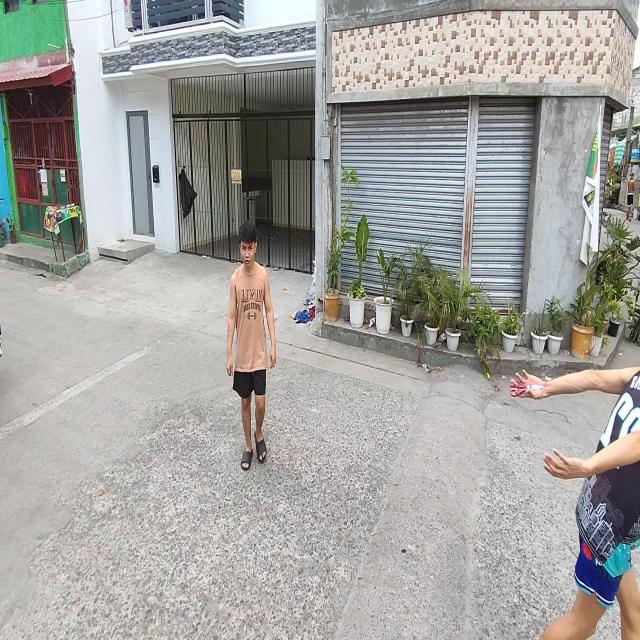scissor: (510, 380, 544, 397)
